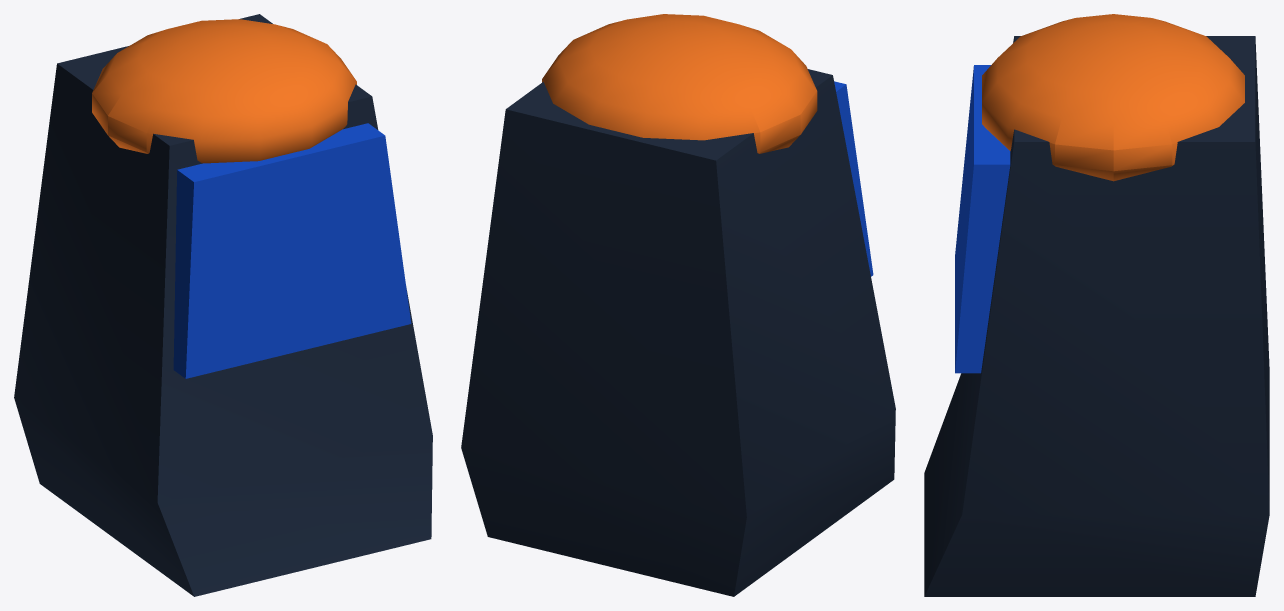
File: RightLeg.glb
The picture shows the model from 3 angles, left to right: view 1: azimuth 30°, elevation 25°; view 2: azimuth 150°, elevation 25°; view 3: azimuth 270°, elevation 25°; orthographic projection. The views are drawn at different scales.
Parts seen in each view (by area): view 1: boot, shinplate, knee; view 2: boot, knee, shinplate; view 3: boot, knee, shinplate.
Part boxes in pixels (box(x1,y1,x2,y2)): boot: box(14, 14, 432, 596); shinplate: box(173, 123, 411, 378); knee: box(92, 19, 356, 163); boot: box(461, 69, 895, 596); knee: box(542, 14, 817, 153); shinplate: box(834, 81, 873, 276); boot: box(924, 36, 1269, 596); knee: box(982, 14, 1244, 181); shinplate: box(955, 65, 1010, 373).
Bounding box in the file's own units: 1.44 × 2.31 × 1.46.
